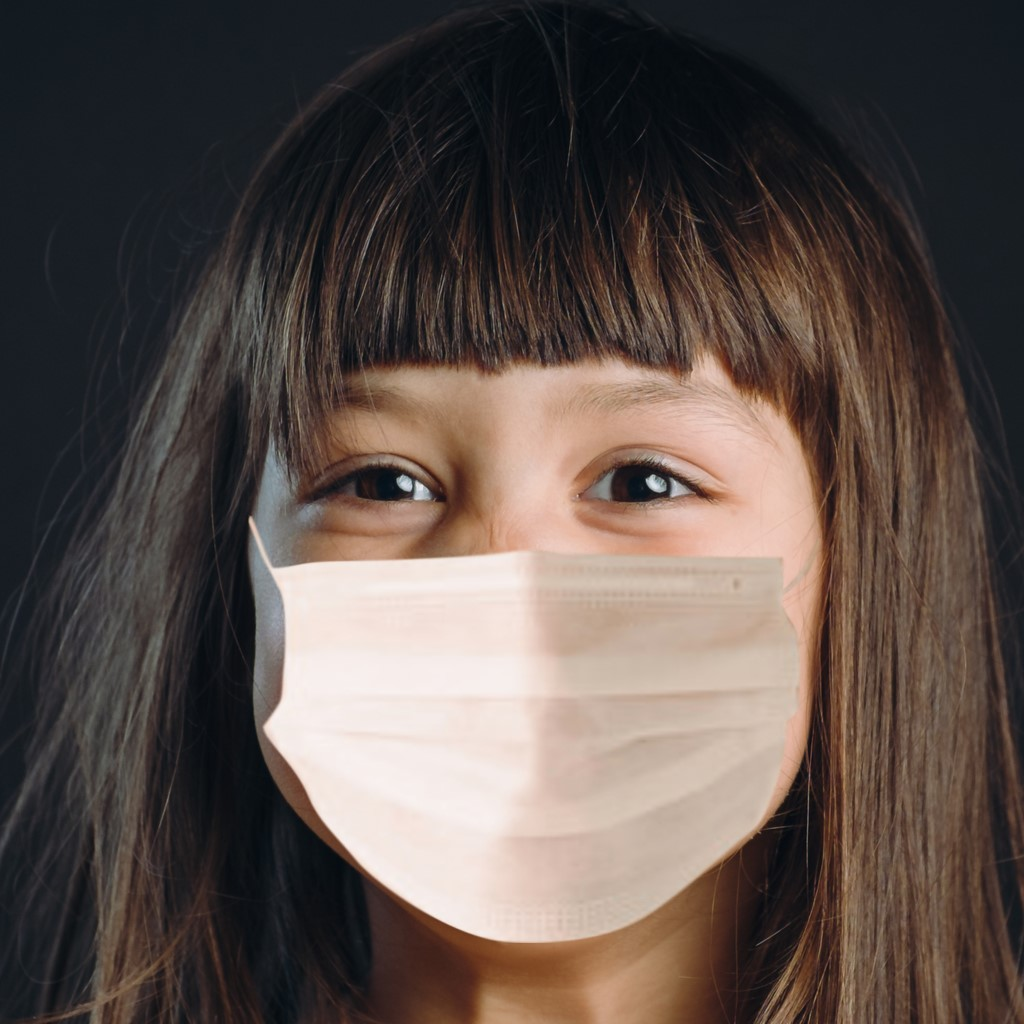con_mascara: (222, 270, 852, 920)
